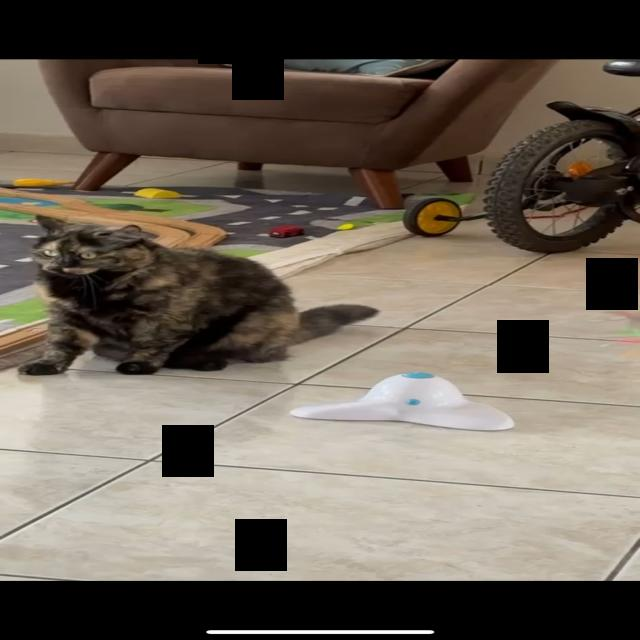authorized: (17, 214, 379, 376)
